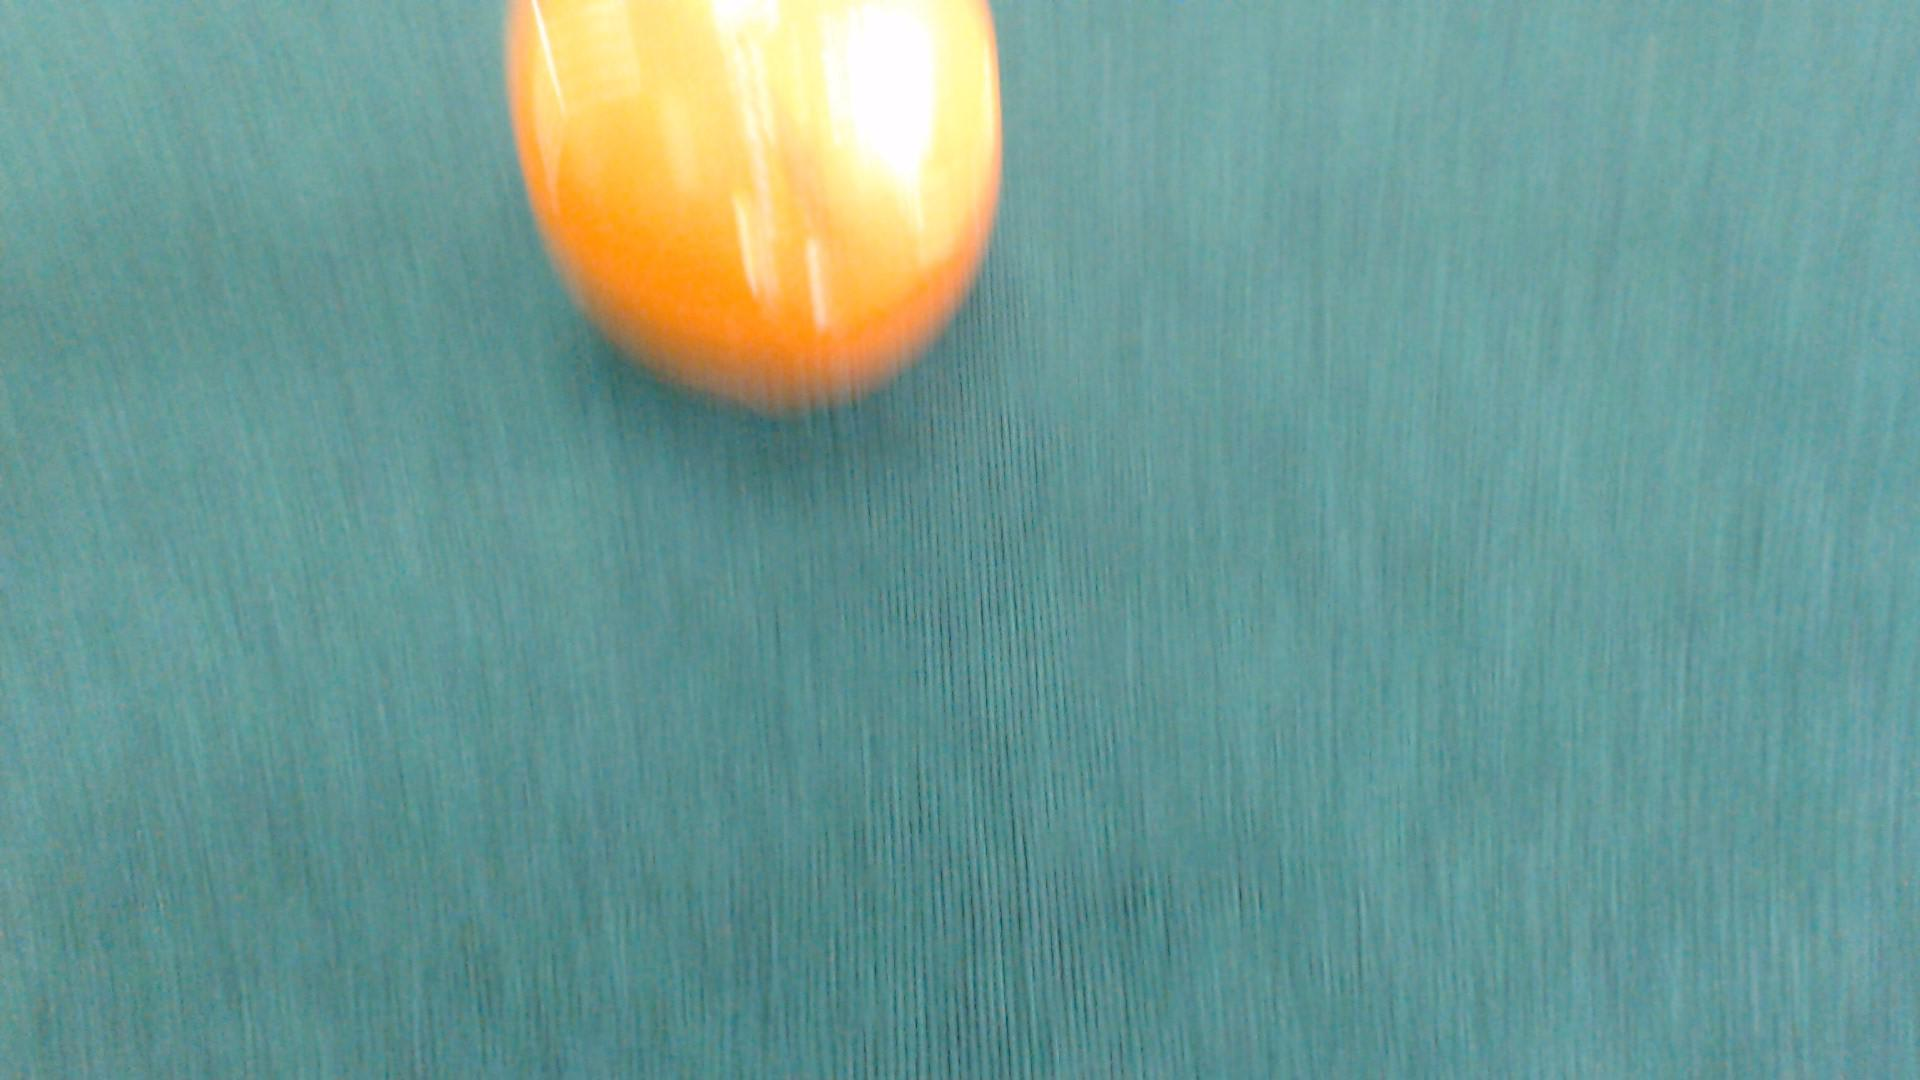bola: (463, 0, 1043, 413)
